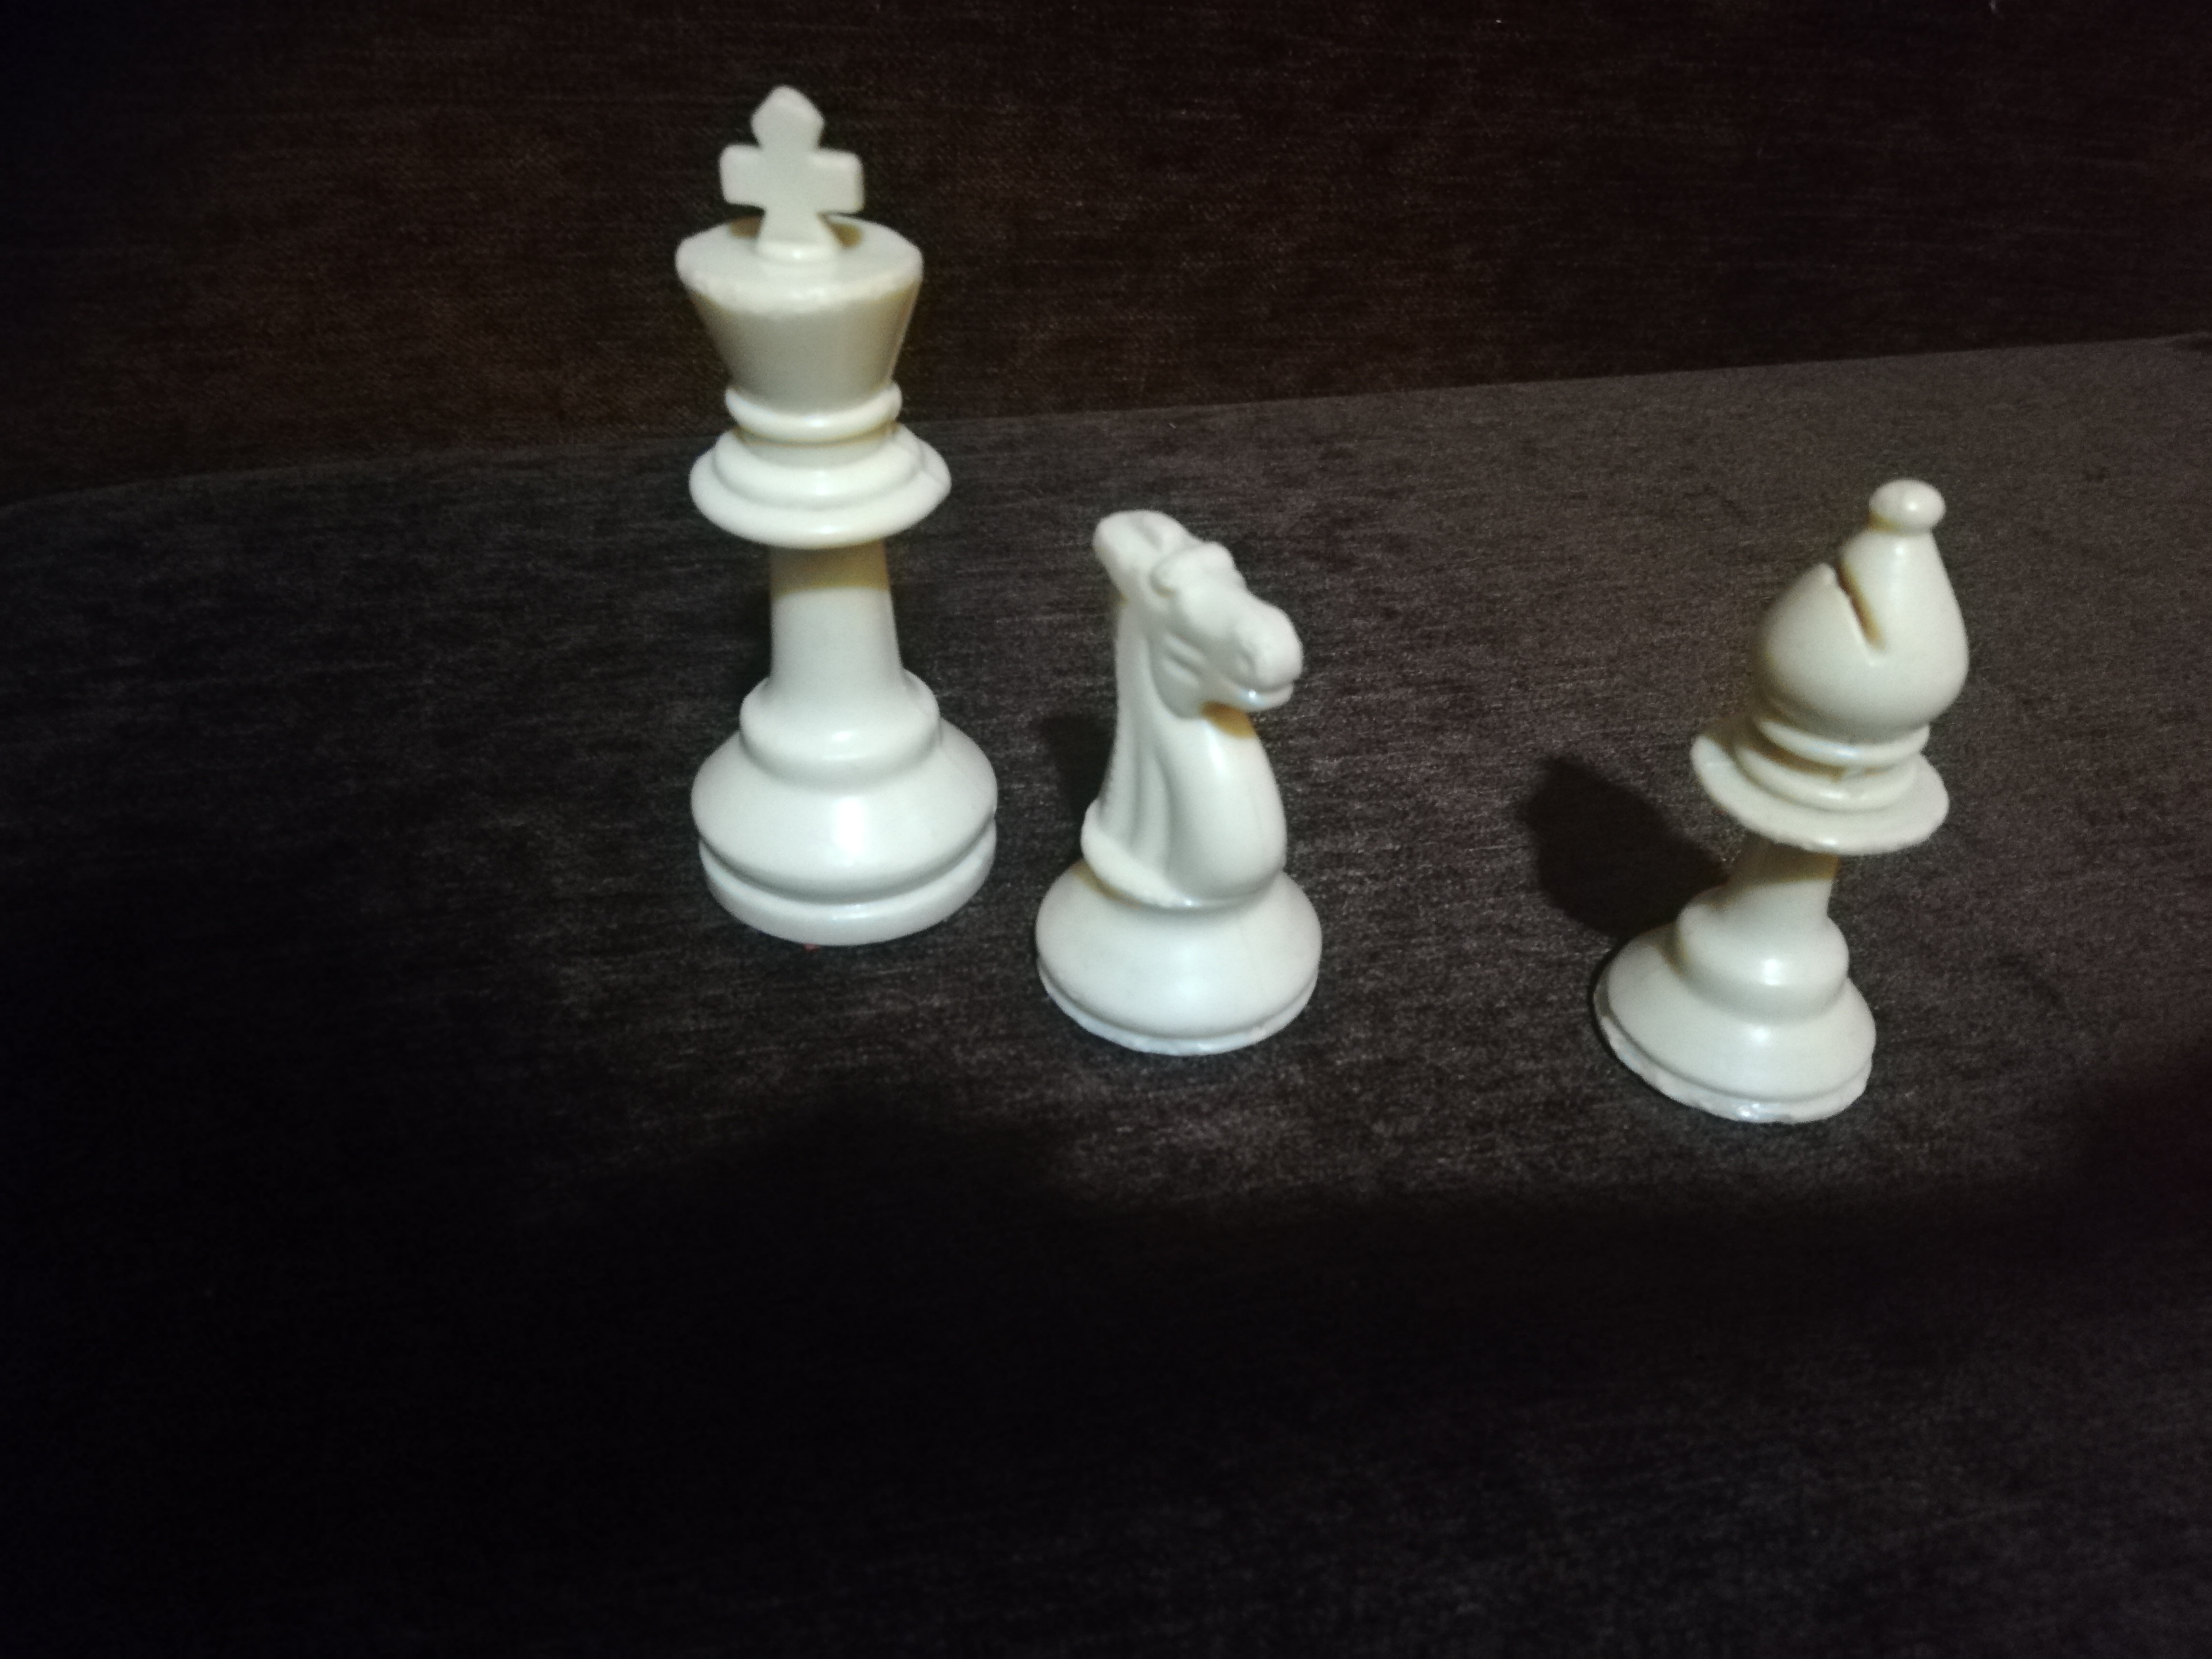Bishop: (1606, 482, 1969, 1123)
King: (639, 83, 1003, 945)
Knight: (1034, 500, 1366, 1062)
